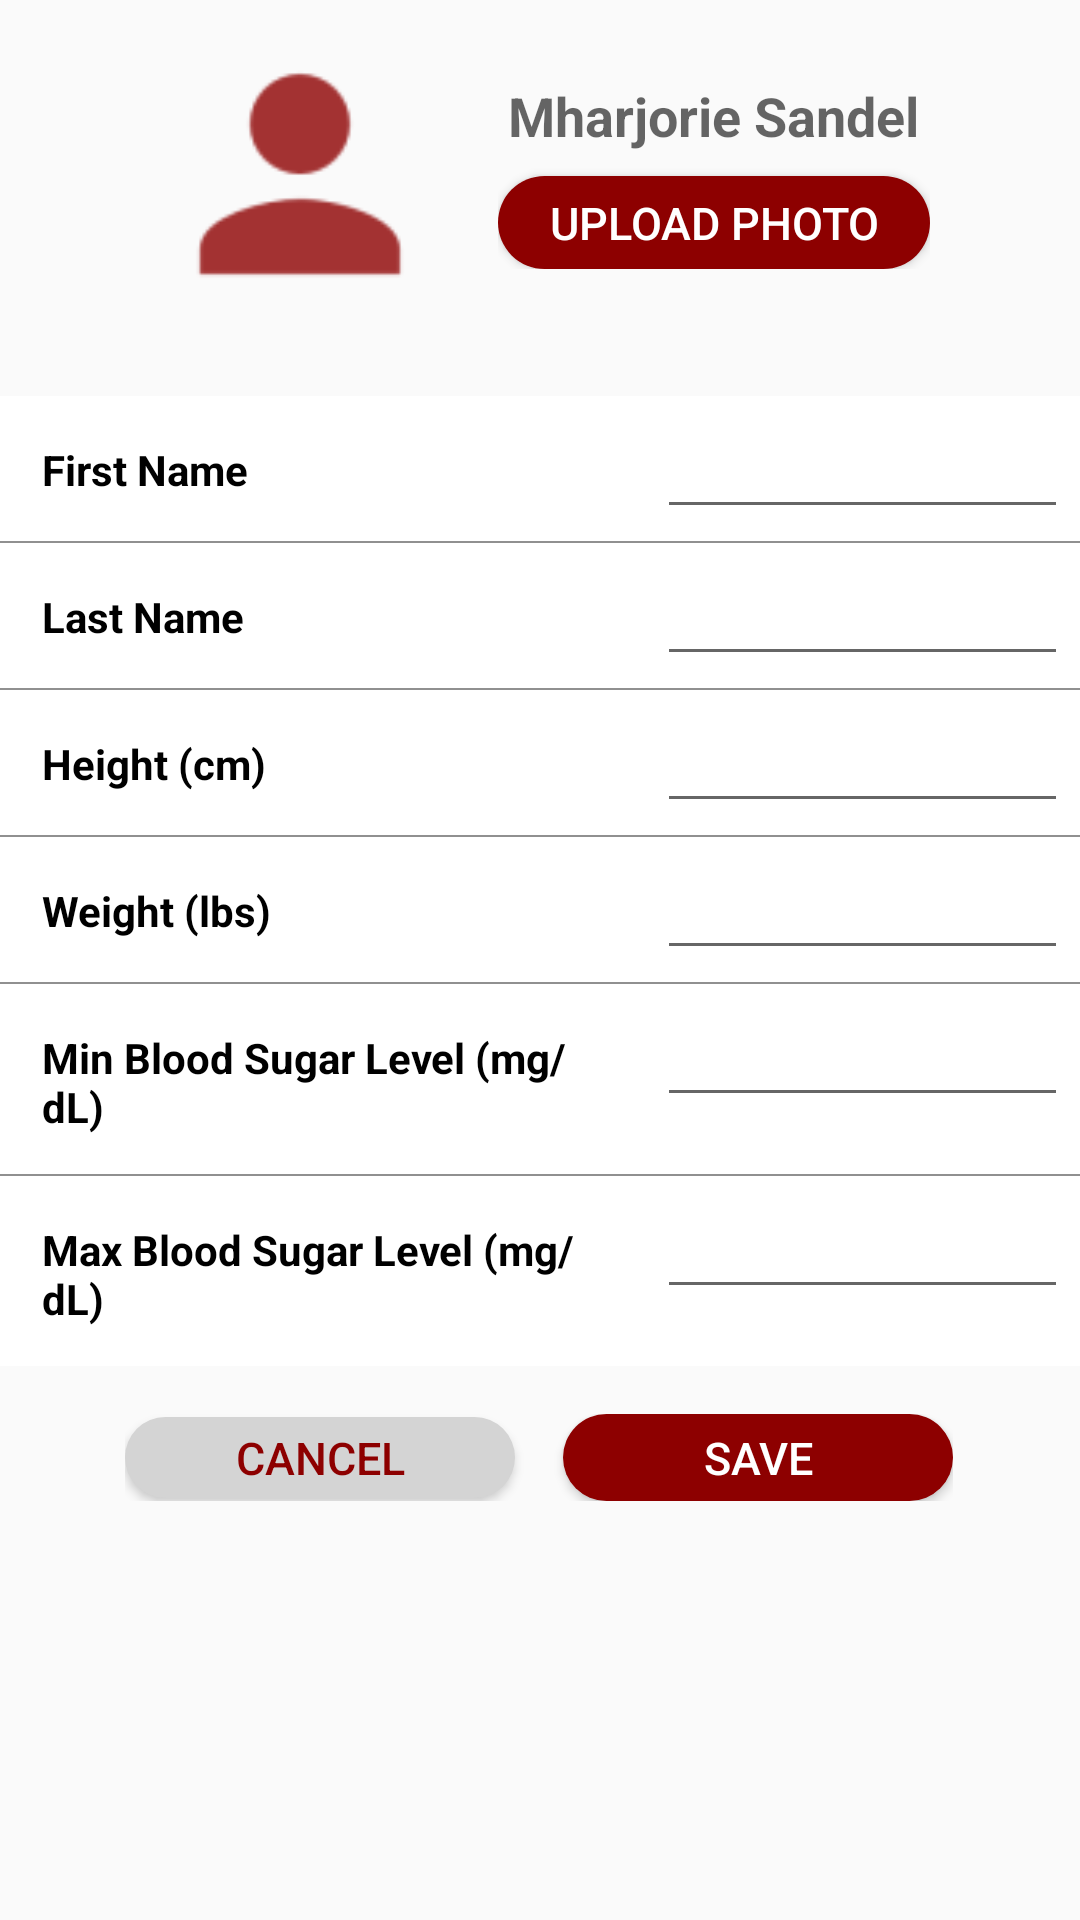

Locate icon controls on the screen. Image size 1080px x 1920px, boxes as region(x1, y1, x2, y2).
user: region(199, 73, 401, 275)
